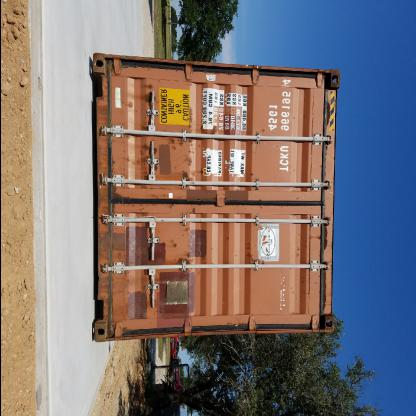Damage: (118, 139, 160, 181), (164, 132, 200, 176), (122, 76, 160, 116), (166, 222, 198, 262), (311, 219, 331, 250)
